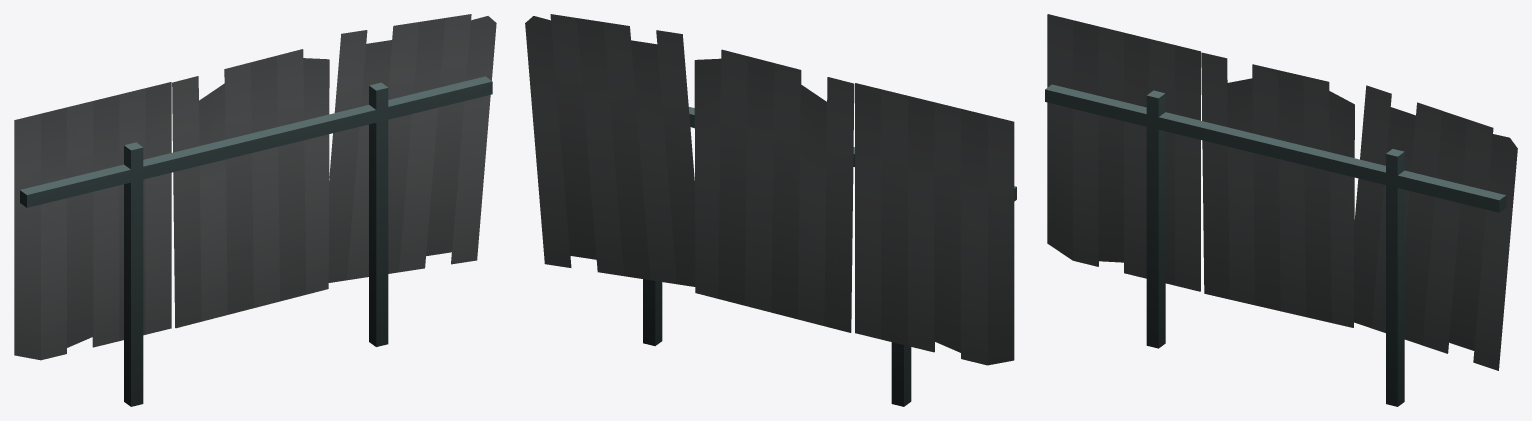
The model's file is Metal_Fence_1A.fbx.
3 renders of one model, left to right at view 1: azimuth 30°, elevation 25°; view 2: azimuth 150°, elevation 25°; view 3: azimuth 330°, elevation 25°, orthographic. The views are drawn at different scales.
Parts seen in each view (by area): view 1: Metal_Fence_1A; view 2: Metal_Fence_1A; view 3: Metal_Fence_1A.
Part boxes in pixels (left/top/right/bottom): Metal_Fence_1A: left=14, top=14, right=496, bottom=406; Metal_Fence_1A: left=525, top=14, right=1016, bottom=406; Metal_Fence_1A: left=1045, top=14, right=1517, bottom=406.
Bounding box in the file's own units: 393 × 245 × 10.86.
